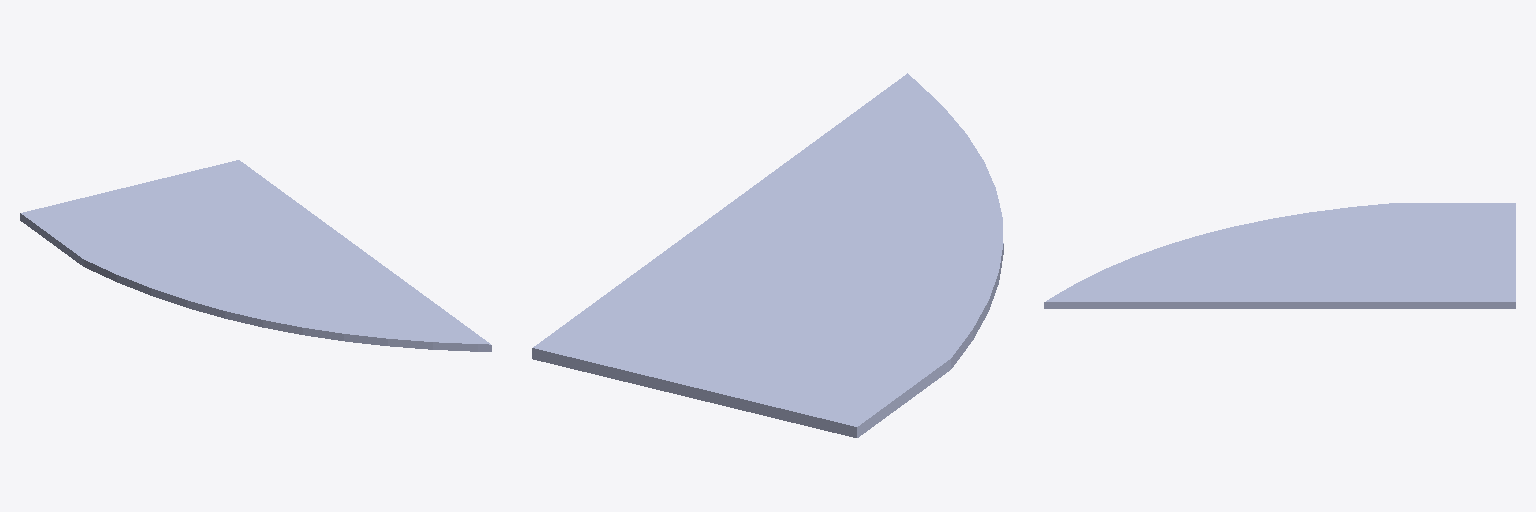
robot.urdf — construction_2:
<?xml version="1.0" encoding="utf-8"?>
<!-- This URDF was automatically created by SolidWorks to URDF Exporter! Originally created by [author] ([email redacted]) 
     Commit Version: 1.6.0-1-g15f4949  Build Version: 1.6.7594.29634
     For more information, please see http://wiki.ros.org/sw_urdf_exporter -->
<robot
  name="construction_2">
  <link
    name="base_link">
    <inertial>
      <origin
        xyz="17.2215134358311 -8.81150569279131 -0.500000000597652"
        rpy="0 0 0" />
      <mass
        value="1335797.86194738" />
      <inertia
        ixx="299021593.727132"
        ixy="54083162.8291913"
        ixz="-7.8911294753565"
        iyy="88498960.2410038"
        iyz="-8.30221882133644"
        izz="387297922.277954" />
    </inertial>
    <visual>
      <origin
        xyz="0 0 0"
        rpy="0 0 0" />
      <geometry>
        <mesh
          filename="package://construction_2/meshes/base_link.STL" />
      </geometry>
      <material
        name="">
        <color
          rgba="0.792156862745098 0.819607843137255 0.933333333333333 1" />
      </material>
    </visual>
    <collision>
      <origin
        xyz="0 0 0"
        rpy="0 0 0" />
      <geometry>
        <mesh
          filename="package://construction_2/meshes/base_link.STL" />
      </geometry>
    </collision>
  </link>
</robot>

--- Facts derived from the render (not from the file) ---
3 views of the same robot in one strip: view 1: azimuth 30°, elevation 25°; view 2: azimuth 150°, elevation 25°; view 3: azimuth 270°, elevation 25° (orthographic).
Model construction_2 with 1 links and 0 joints (none), rooted at base_link, posed all joints at 0.
Visible links, largest first — view 1: base_link; view 2: base_link; view 3: base_link.
Boxes of the visible links, left/top/right/bottom form: base_link: left=20, top=160, right=491, bottom=351; base_link: left=532, top=73, right=1003, bottom=437; base_link: left=1044, top=203, right=1515, bottom=308.
Size in the robot's own frame: 30 by 60 by 1 metres.
Meshes: 1 distinct files referenced, 1 mesh visuals loaded (1 binary STL).